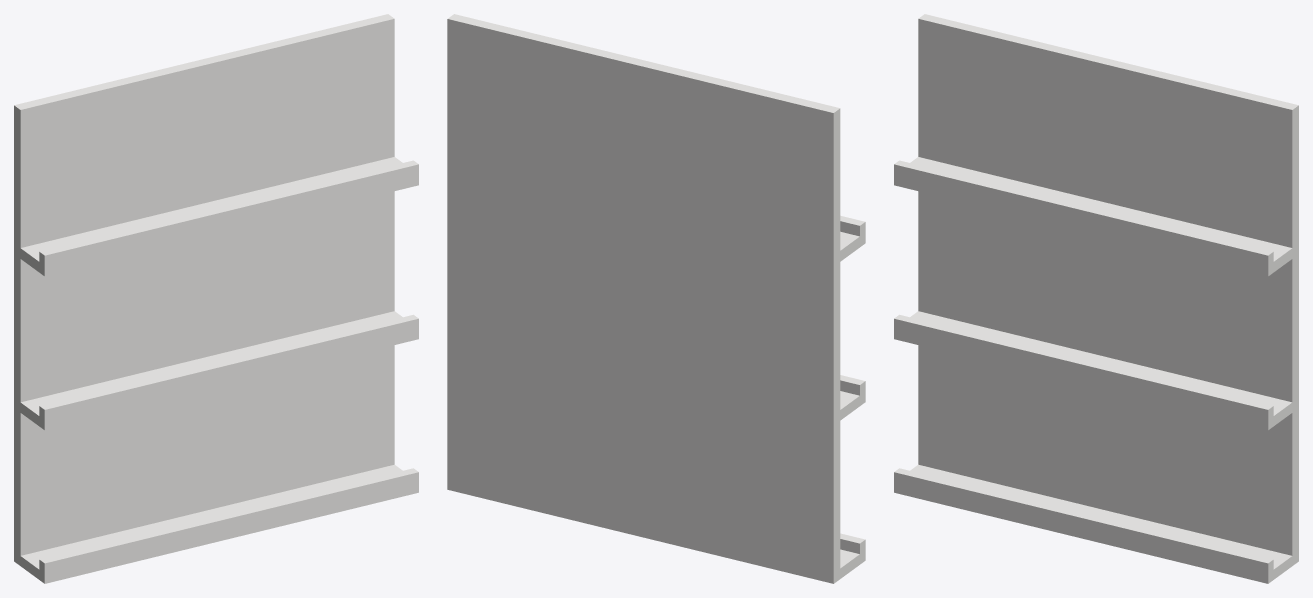
Rendered from Shelf_5.fbx.
3 views of the same model, side by side, from view 1: azimuth 30°, elevation 25°; view 2: azimuth 150°, elevation 25°; view 3: azimuth 330°, elevation 25° (orthographic). The views are drawn at different scales.
Parts seen in each view (by area): view 1: Shelf_5; view 2: Shelf_5; view 3: Shelf_5.
Part boxes in pixels (bbox=[...]): Shelf_5: bbox=[14, 14, 418, 583]; Shelf_5: bbox=[447, 14, 865, 583]; Shelf_5: bbox=[894, 14, 1298, 583].
Size of the model in its own units: 114 by 16.22 by 133.
